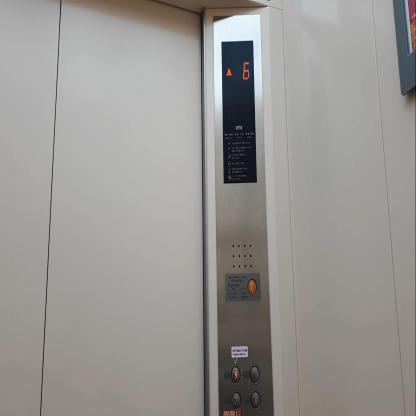7: (231, 391, 241, 410)
8: (251, 390, 260, 408)
9: (231, 365, 240, 384)
call: (247, 277, 257, 296)
empty: (250, 365, 259, 383)
led: (220, 37, 258, 186)
